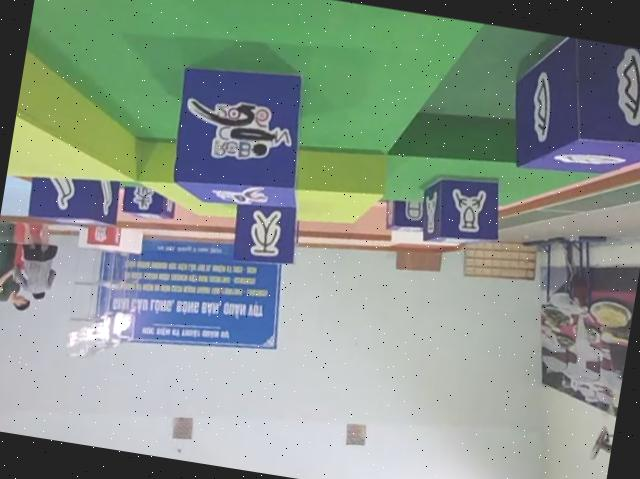R1 Blue: (163, 53, 316, 216)
R2 Fake Blue: (229, 196, 304, 269), (118, 184, 177, 224), (385, 196, 432, 236)
R2 Real Blue: (504, 29, 640, 186), (415, 167, 505, 252), (23, 166, 122, 232)
